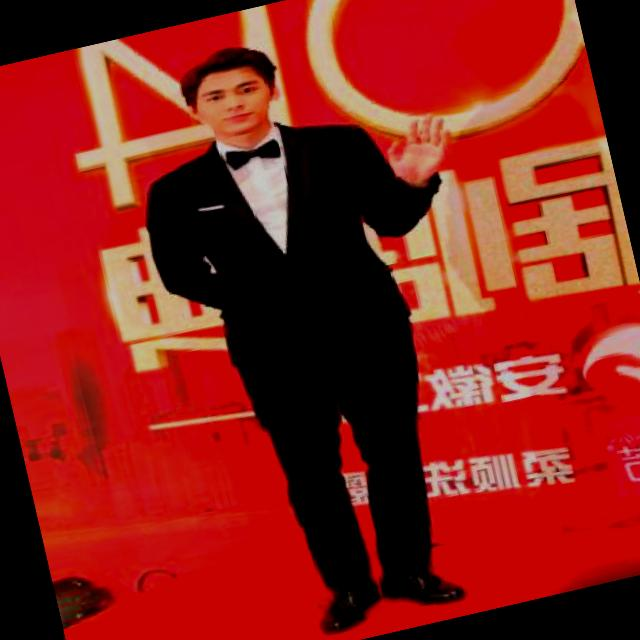Person: (97, 0, 560, 640)
